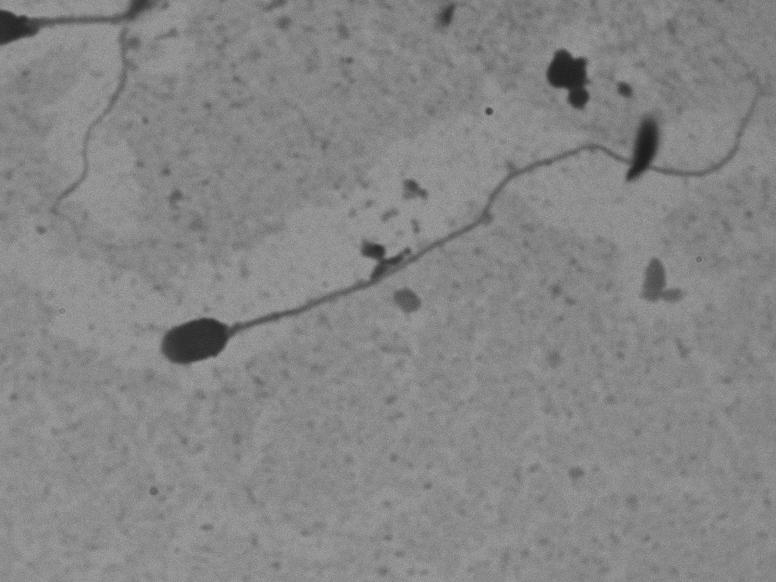Normal: (142, 40, 761, 393)
